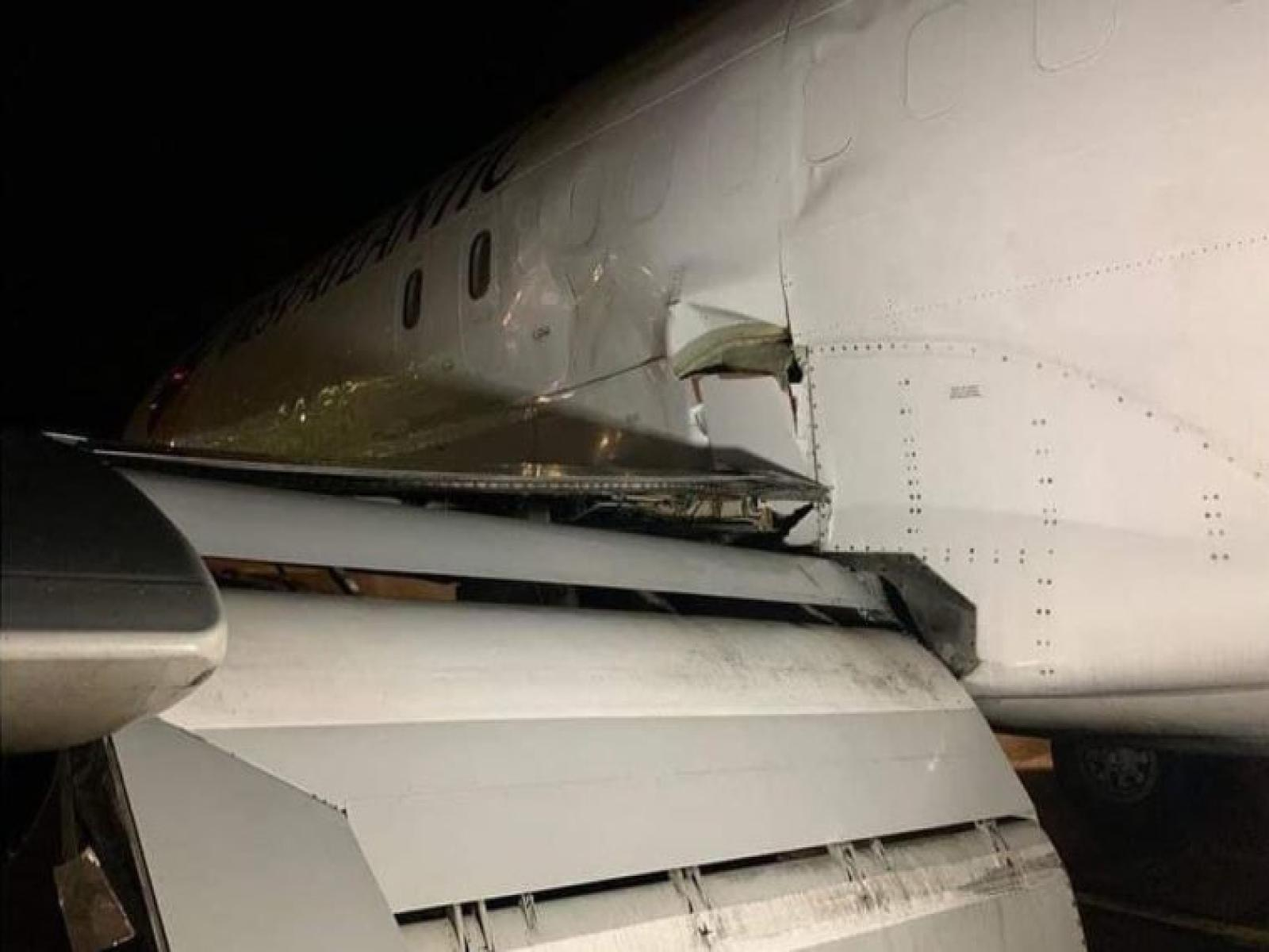Fuselage_damage: (669, 299, 803, 390)
